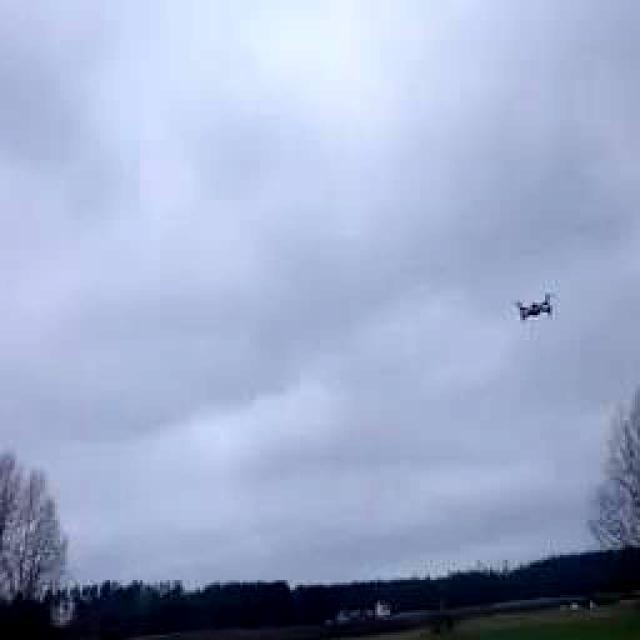bird: (481, 269, 576, 341)
